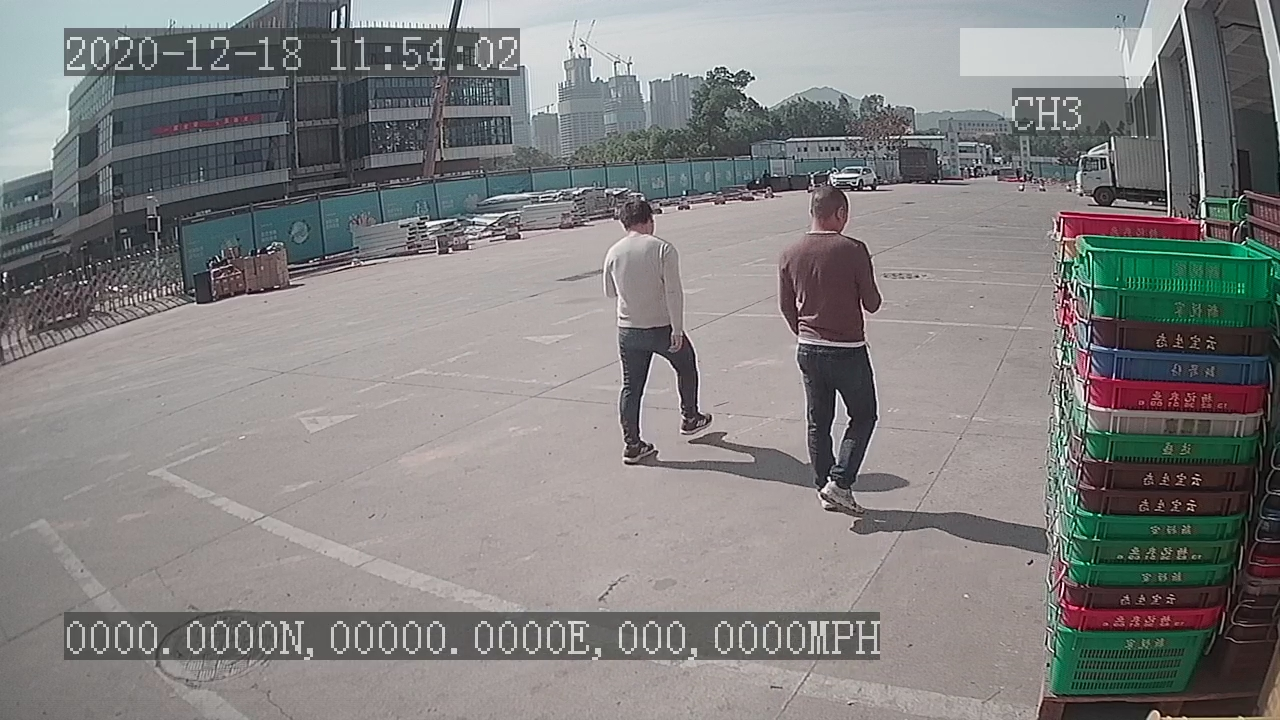person: (768, 177, 892, 522), (595, 194, 722, 467)
